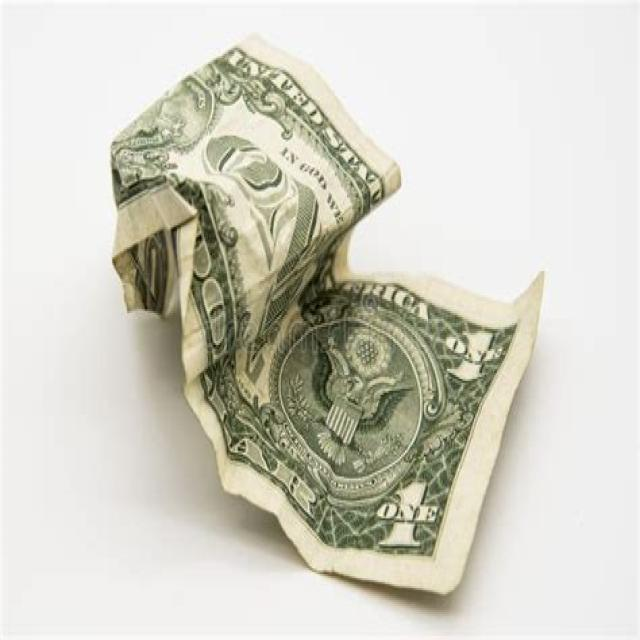banknote: (109, 30, 549, 599), (366, 466, 443, 553), (437, 307, 506, 385), (140, 241, 165, 309)
